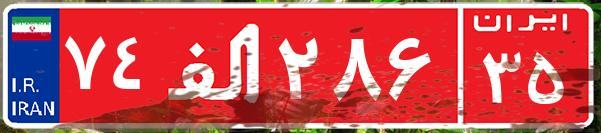2: (273, 28, 330, 110)
3: (475, 38, 525, 113)
4: (110, 28, 158, 105)
5: (525, 38, 570, 115)
6: (385, 28, 445, 110)
7: (57, 26, 110, 107)
8: (330, 28, 385, 110)
الف: (158, 15, 273, 115)
